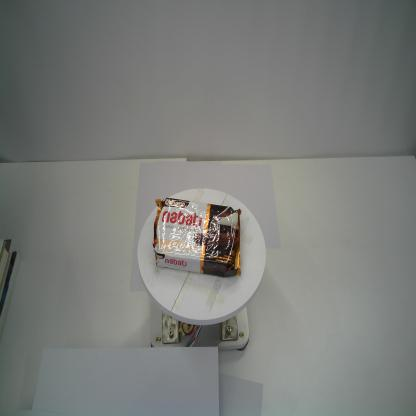Dessert: (152, 196, 244, 280)
